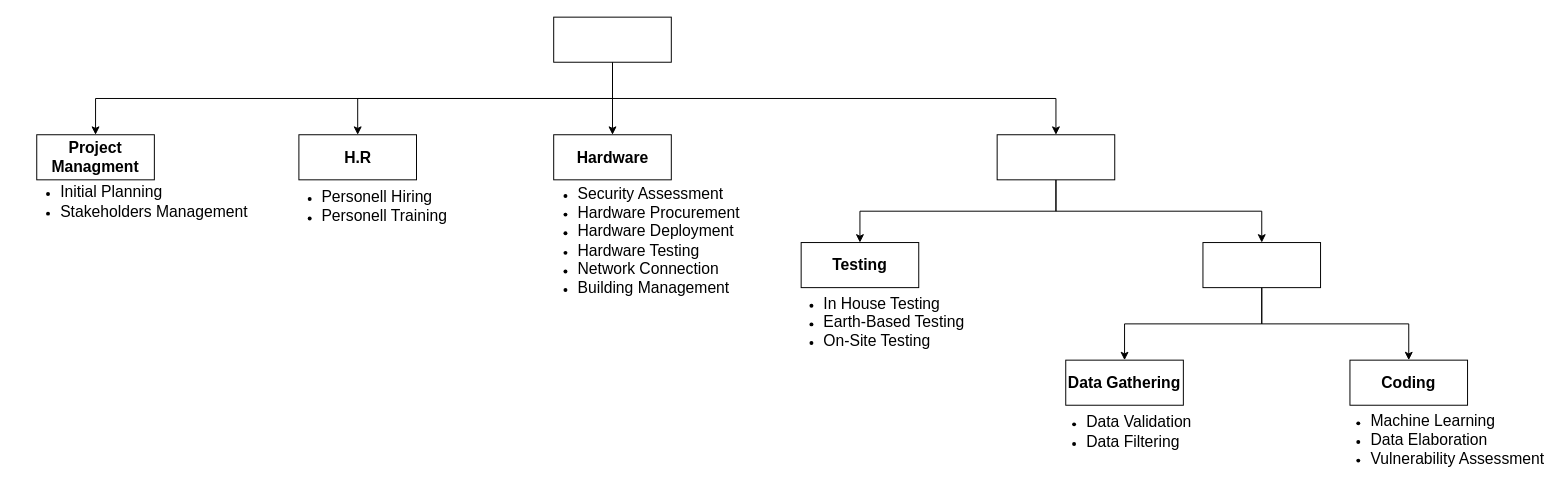
The diagram is 1562 pixels wide and 497 high, and some of its shapes have lost their labels. The shapes that lost their labels are listed below. From the top down, each one's centre as x and y in pixels, then its label:
At point (612, 39): "Project".
At point (1055, 157): "Software".
At point (1261, 265): "Development".
